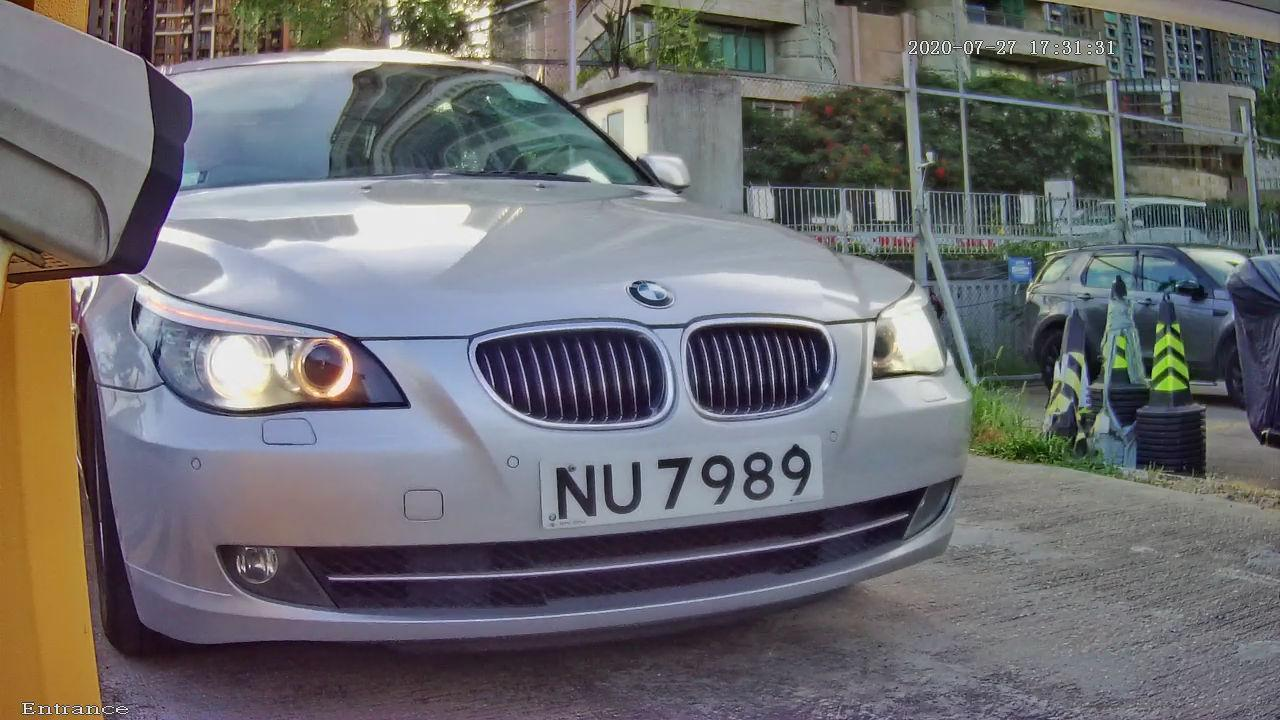privatecar: (46, 23, 1126, 672)
